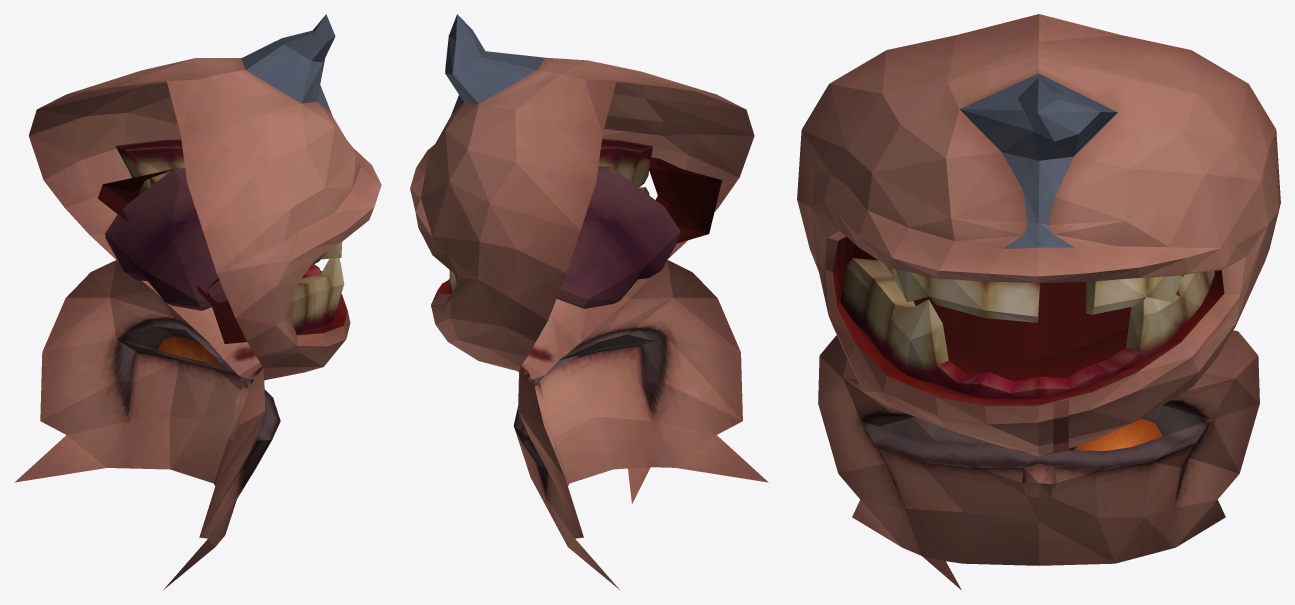
Rendered from MiyamotoFace02.dae.
The picture shows the model from 3 angles, left to right: view 1: azimuth 30°, elevation 25°; view 2: azimuth 150°, elevation 25°; view 3: azimuth 270°, elevation 25°; orthographic projection. The views are drawn at different scales.
Visible parts, largest first — view 1: m1, m2, m0; view 2: m1, m2; view 3: m1, m2, m0.
Part boxes in pixels (x1,y1,x2,y2): m1: (14,58,381,589); m2: (98,14,347,498); m0: (157,336,219,366); m1: (410,57,768,589); m2: (437,14,721,498); m1: (797,14,1280,590); m2: (833,73,1224,506); m0: (1075,418,1162,450).
Bounding box in the file's own units: 57.15 × 97.51 × 70.92.
Materials: 3 (3 with a texture image).
